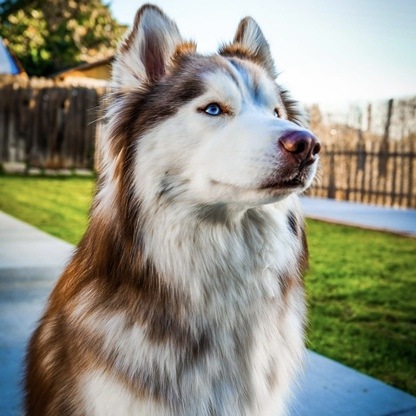husky: (10, 1, 330, 416)
